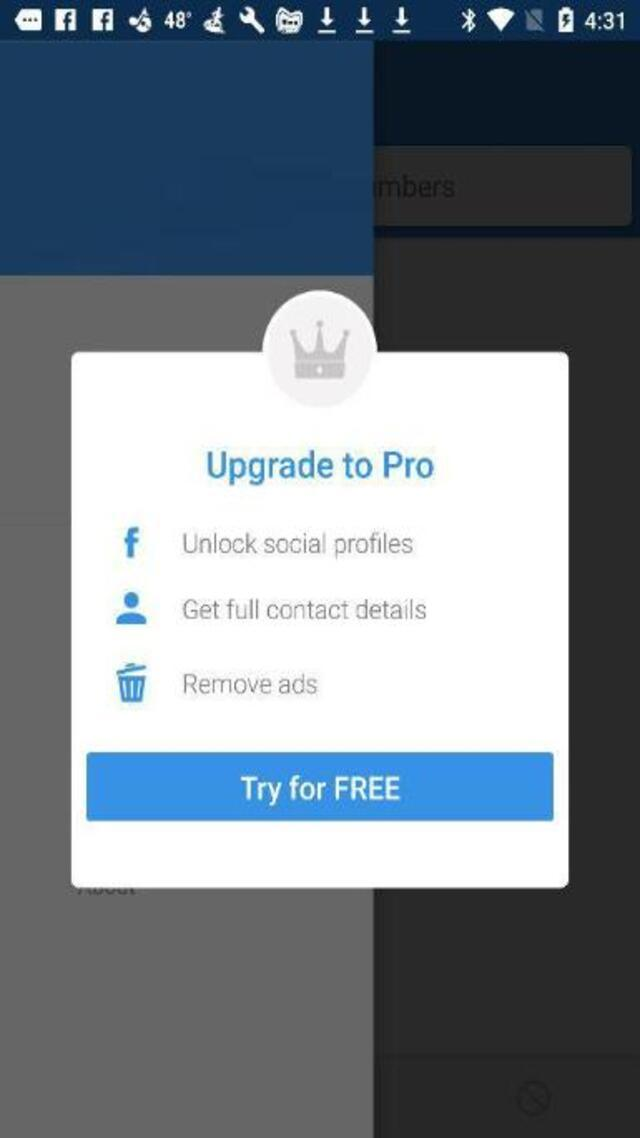Icon: (238, 771, 409, 807), (116, 662, 148, 704), (116, 591, 148, 625), (123, 524, 140, 558)
Image: (262, 289, 376, 408)
Text: (205, 449, 433, 486), (182, 530, 413, 558), (182, 596, 426, 620), (184, 672, 318, 695)
TextButton: (85, 752, 552, 820)
